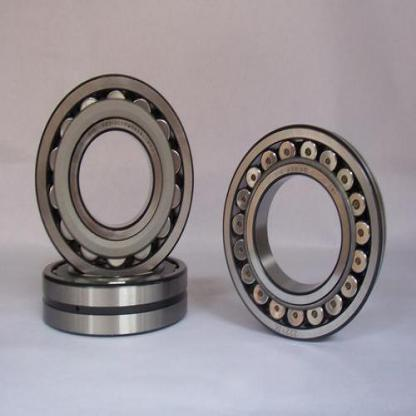FOD: (219, 118, 388, 346), (33, 72, 197, 287), (36, 247, 191, 339)
